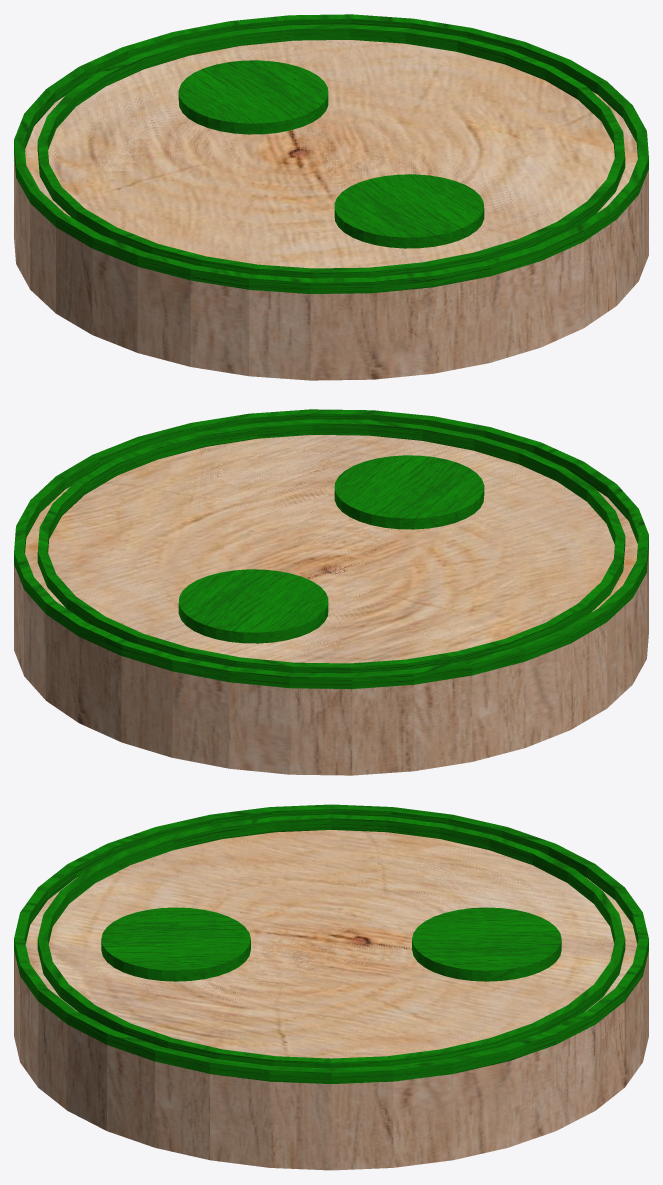
The model's file is Sonnestein2.fbx.
The picture shows the model from 3 angles, top to bottom: view 1: azimuth 30°, elevation 25°; view 2: azimuth 150°, elevation 25°; view 3: azimuth 270°, elevation 25°; orthographic projection.
Parts seen in each view (by area): view 1: Sonne2; view 2: Sonne2; view 3: Sonne2.
Part boxes in pixels (left/top/right/bottom): Sonne2: left=14, top=14, right=648, bottom=380; Sonne2: left=14, top=409, right=648, bottom=775; Sonne2: left=14, top=804, right=648, bottom=1170.
Bounding box in the file's own units: 200 × 34 × 200.
